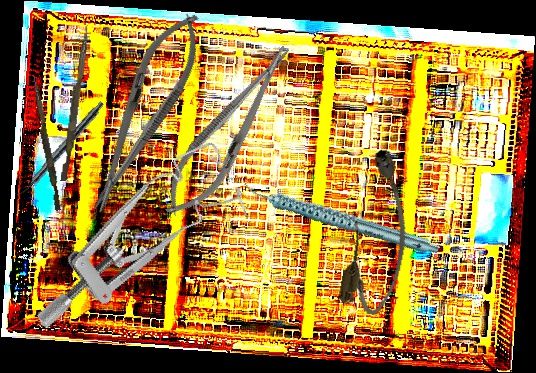Cannula: (336, 145, 423, 319)
Handpiece: (241, 143, 441, 292), (15, 98, 106, 201)
Needle Holder: (72, 1, 216, 223), (150, 34, 308, 229)
Pusher: (27, 76, 65, 211), (60, 23, 90, 183)
Speculum: (1, 137, 260, 333)
